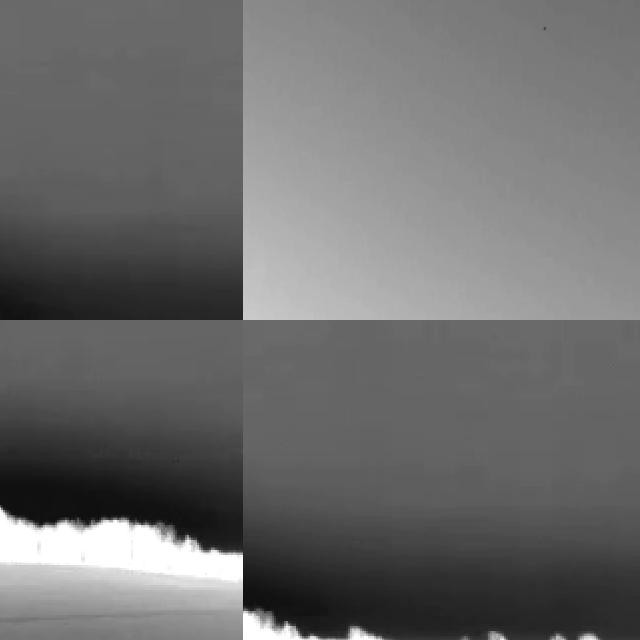drone: (542, 20, 551, 39)
